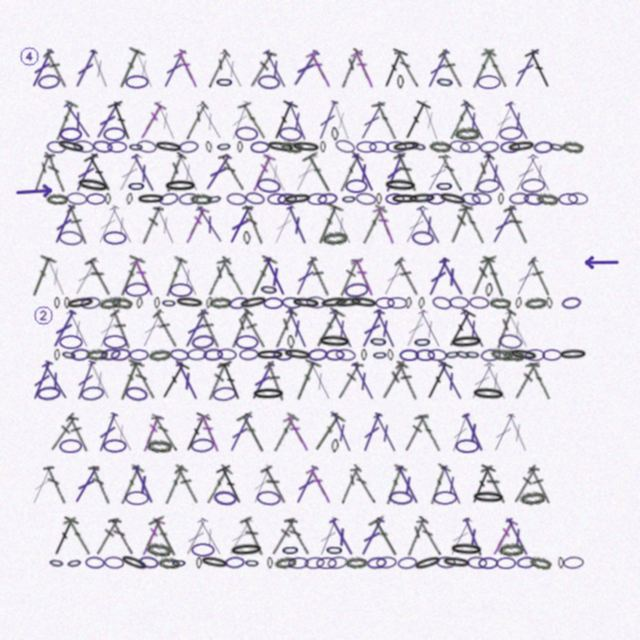chain: (118, 552, 150, 574), (75, 176, 111, 195), (412, 553, 444, 573), (55, 137, 87, 156), (449, 334, 484, 350), (471, 386, 506, 402), (229, 542, 264, 558), (437, 190, 468, 208), (238, 294, 269, 311), (199, 554, 230, 571), (383, 178, 418, 193), (317, 334, 352, 349), (471, 490, 506, 505), (449, 542, 484, 557), (153, 139, 184, 155), (265, 139, 296, 155), (65, 295, 96, 311), (508, 347, 539, 363), (163, 179, 198, 193), (251, 387, 286, 401), (391, 139, 422, 154), (506, 139, 537, 154), (174, 295, 205, 310), (319, 295, 350, 310), (333, 295, 364, 310), (348, 295, 379, 310), (282, 347, 313, 362), (441, 555, 472, 570), (145, 541, 172, 558), (124, 385, 149, 403), (282, 192, 313, 206), (321, 230, 348, 246), (519, 490, 546, 506), (256, 177, 281, 194), (498, 333, 523, 350), (80, 385, 105, 402), (291, 140, 321, 154), (291, 296, 321, 310), (37, 73, 61, 90), (278, 126, 303, 142), (476, 178, 501, 194), (58, 230, 83, 246), (344, 282, 369, 298), (212, 386, 237, 402), (256, 490, 281, 506), (388, 490, 413, 506), (454, 126, 480, 141), (407, 192, 437, 205), (558, 348, 588, 361), (498, 542, 524, 557), (257, 74, 281, 90), (411, 230, 435, 246), (98, 295, 122, 311), (191, 334, 215, 350), (213, 490, 237, 506), (36, 386, 61, 401), (190, 438, 215, 453), (334, 138, 356, 155), (529, 555, 552, 571), (146, 439, 172, 453), (499, 126, 523, 141), (521, 178, 545, 193), (136, 193, 166, 205), (390, 193, 420, 205), (125, 282, 149, 297), (255, 349, 285, 361), (158, 191, 180, 207), (460, 191, 482, 207), (228, 295, 250, 311), (431, 295, 453, 311), (235, 126, 258, 141), (110, 295, 133, 310), (490, 347, 513, 362), (274, 555, 297, 570), (125, 75, 149, 89), (477, 75, 501, 89), (103, 231, 127, 245), (169, 283, 193, 297), (59, 335, 83, 349), (103, 335, 127, 349), (235, 335, 259, 349), (103, 439, 127, 453), (455, 439, 479, 453), (125, 491, 149, 505), (433, 491, 457, 505), (191, 543, 215, 557), (73, 139, 95, 154), (449, 139, 471, 154), (244, 191, 266, 206), (59, 127, 82, 141), (103, 127, 126, 141), (280, 140, 303, 154), (561, 140, 584, 154), (345, 179, 368, 193), (536, 192, 559, 206), (524, 296, 547, 310), (148, 348, 171, 362), (502, 348, 525, 362), (59, 439, 82, 453), (435, 74, 455, 90), (92, 139, 113, 154), (136, 139, 157, 154), (100, 347, 121, 362), (110, 347, 131, 362), (138, 555, 159, 570), (327, 555, 348, 570), (355, 192, 377, 206), (259, 282, 279, 297), (46, 140, 67, 154), (178, 140, 199, 154), (479, 140, 500, 154), (533, 140, 554, 154), (178, 192, 199, 206), (226, 192, 247, 206), (317, 192, 338, 206), (523, 192, 544, 206), (80, 296, 101, 310), (281, 296, 302, 310), (561, 296, 582, 310), (169, 348, 190, 362), (335, 348, 356, 362), (427, 348, 448, 362), (480, 348, 501, 362), (304, 556, 325, 570), (366, 556, 387, 570), (397, 556, 418, 570), (429, 140, 451, 153), (66, 192, 88, 205), (209, 296, 231, 309), (86, 348, 108, 361), (345, 556, 367, 569), (369, 334, 388, 349), (471, 192, 492, 205), (70, 348, 91, 361), (307, 348, 328, 361), (376, 556, 397, 569), (516, 556, 537, 569), (563, 556, 584, 569), (410, 139, 428, 154), (454, 347, 472, 362), (215, 75, 234, 89), (127, 179, 146, 193), (435, 179, 454, 193), (413, 335, 432, 349), (281, 543, 300, 557), (325, 543, 344, 557), (46, 193, 68, 205), (190, 193, 212, 205), (489, 297, 511, 309), (158, 557, 180, 569), (509, 192, 529, 205), (568, 192, 588, 205), (306, 296, 326, 309), (449, 296, 469, 309), (469, 296, 489, 309), (187, 348, 207, 361), (203, 348, 223, 361), (217, 348, 237, 361), (239, 348, 259, 361), (273, 348, 293, 361), (85, 556, 105, 569), (104, 556, 124, 569), (225, 556, 245, 569), (436, 556, 456, 569), (467, 556, 487, 569), (356, 141, 377, 153), (386, 141, 407, 153), (387, 297, 408, 309), (60, 348, 78, 362), (288, 557, 309, 569), (316, 557, 337, 569), (107, 141, 127, 153), (250, 141, 270, 153), (369, 141, 389, 153), (460, 141, 480, 153), (500, 141, 520, 153), (86, 193, 106, 205), (267, 193, 287, 205), (277, 193, 297, 205), (307, 193, 327, 205), (385, 193, 405, 205), (426, 193, 446, 205), (558, 193, 578, 205), (263, 297, 283, 309), (375, 297, 395, 309), (129, 349, 149, 361), (325, 349, 345, 361), (399, 349, 419, 361), (415, 349, 435, 361), (525, 349, 545, 361), (542, 349, 562, 361), (478, 557, 498, 569), (496, 557, 516, 569), (548, 140, 565, 154), (206, 192, 223, 206), (48, 556, 65, 570), (66, 556, 83, 570), (444, 348, 461, 361), (464, 348, 481, 361), (216, 140, 232, 153), (128, 141, 144, 153), (341, 193, 357, 205), (161, 297, 177, 309), (372, 349, 388, 361), (171, 557, 187, 569), (244, 557, 260, 569), (331, 127, 339, 141), (243, 231, 251, 245), (485, 283, 493, 297), (287, 335, 295, 349), (331, 439, 339, 453), (397, 75, 404, 89), (205, 141, 213, 153), (205, 297, 213, 309), (126, 193, 133, 205), (136, 297, 143, 309), (405, 297, 412, 309), (418, 297, 425, 309), (515, 297, 522, 309), (546, 297, 553, 309), (387, 349, 394, 361), (237, 141, 243, 153), (320, 141, 326, 153), (105, 193, 111, 205), (376, 193, 382, 205), (498, 193, 504, 205), (54, 297, 60, 309), (64, 297, 70, 309), (154, 297, 160, 309), (54, 349, 60, 361), (361, 349, 367, 361), (196, 557, 202, 569), (267, 557, 273, 569), (558, 557, 564, 569)
double: (309, 411, 346, 455), (310, 307, 346, 351), (368, 515, 404, 559), (302, 151, 337, 195), (156, 359, 191, 403), (236, 411, 271, 455), (148, 515, 183, 559), (83, 151, 117, 195), (443, 307, 477, 351), (113, 47, 146, 91), (399, 99, 432, 143), (245, 255, 278, 299), (421, 359, 454, 403), (215, 463, 248, 507), (237, 99, 270, 142), (267, 411, 300, 454), (524, 47, 556, 91), (312, 203, 344, 247), (114, 255, 146, 299), (290, 359, 322, 403), (180, 411, 212, 455), (48, 515, 80, 559), (61, 100, 95, 141), (193, 204, 227, 245), (39, 360, 72, 402), (201, 464, 234, 506), (444, 99, 476, 142), (356, 203, 388, 246), (216, 255, 248, 298), (62, 515, 94, 558), (378, 47, 409, 91), (268, 99, 299, 143), (26, 255, 57, 299), (480, 255, 511, 299), (114, 359, 145, 403), (216, 359, 247, 403), (466, 463, 497, 507), (289, 48, 322, 89), (201, 152, 234, 193), (194, 100, 226, 142), (422, 152, 454, 194), (70, 256, 102, 298), (84, 256, 116, 298), (436, 256, 468, 298), (70, 464, 102, 506), (194, 516, 226, 558), (224, 516, 256, 558), (326, 516, 358, 558), (466, 47, 497, 90), (480, 47, 511, 90), (334, 151, 365, 194), (458, 203, 489, 246), (414, 411, 445, 454), (114, 463, 145, 506), (158, 463, 189, 506), (107, 99, 137, 143), (260, 48, 291, 90), (510, 48, 541, 90), (136, 100, 167, 142), (356, 100, 387, 142), (458, 100, 489, 142), (114, 152, 145, 194), (260, 152, 291, 194), (510, 152, 541, 194), (106, 204, 137, 246), (414, 204, 445, 246), (488, 204, 519, 246), (48, 308, 79, 350), (180, 308, 211, 350), (458, 308, 489, 350), (502, 308, 533, 350), (348, 360, 379, 402), (378, 360, 409, 402), (436, 360, 467, 402), (466, 360, 497, 402), (106, 412, 137, 454), (282, 412, 313, 454), (260, 464, 291, 506), (480, 464, 511, 506), (356, 516, 387, 558), (488, 516, 519, 558), (27, 47, 57, 90), (49, 99, 79, 142), (371, 99, 401, 142), (173, 151, 203, 194), (349, 151, 379, 194), (137, 307, 167, 350), (401, 307, 431, 350), (85, 359, 115, 402), (525, 359, 555, 402), (239, 515, 269, 558), (92, 100, 123, 141), (159, 48, 189, 90), (217, 48, 247, 90), (305, 48, 335, 90), (503, 100, 533, 142), (71, 152, 101, 194), (129, 152, 159, 194), (291, 152, 321, 194), (525, 152, 555, 194), (225, 204, 255, 246), (401, 204, 431, 246), (503, 204, 533, 246), (379, 256, 409, 298), (511, 256, 541, 298), (63, 308, 93, 350), (327, 308, 357, 350), (357, 308, 387, 350), (415, 308, 445, 350), (247, 360, 277, 402), (305, 360, 335, 402), (481, 360, 511, 402), (225, 412, 255, 454), (371, 412, 401, 454), (291, 464, 321, 506), (305, 464, 335, 506), (393, 464, 423, 506), (181, 516, 211, 558), (445, 516, 475, 558), (503, 516, 533, 558), (151, 99, 180, 142), (393, 151, 422, 194), (93, 203, 122, 246), (159, 255, 188, 298), (261, 255, 290, 298), (291, 255, 320, 298), (467, 255, 496, 298), (283, 307, 312, 350), (371, 307, 400, 350), (459, 411, 488, 454), (129, 463, 158, 506), (379, 463, 408, 506), (48, 413, 79, 453), (151, 308, 181, 349), (71, 48, 100, 90), (173, 48, 202, 90), (423, 48, 452, 90), (481, 152, 510, 194), (181, 204, 210, 246), (327, 204, 356, 246), (129, 256, 158, 298), (173, 360, 202, 402), (489, 412, 518, 454), (137, 516, 166, 558), (130, 47, 158, 90), (50, 203, 78, 246), (446, 203, 474, 246), (42, 255, 70, 298), (94, 307, 122, 350), (28, 359, 56, 402), (328, 411, 356, 454), (504, 411, 532, 454), (424, 463, 452, 506), (314, 515, 342, 558), (247, 49, 277, 89), (239, 309, 269, 349), (437, 48, 466, 89), (203, 256, 232, 297), (393, 256, 422, 297), (335, 360, 364, 401), (173, 464, 202, 505), (511, 464, 540, 505), (93, 516, 122, 557), (269, 516, 298, 557), (350, 48, 378, 90), (490, 100, 518, 142), (248, 152, 276, 194), (270, 204, 298, 246), (174, 256, 202, 298), (350, 256, 378, 298), (424, 256, 452, 298), (196, 412, 224, 454), (28, 464, 56, 506), (438, 464, 466, 506), (86, 47, 113, 90), (226, 99, 253, 142), (314, 99, 341, 142), (328, 99, 355, 142), (72, 359, 99, 402), (94, 411, 121, 454), (358, 411, 385, 454), (248, 463, 275, 506), (151, 413, 180, 453), (42, 48, 70, 89), (218, 152, 246, 193), (526, 256, 554, 297), (226, 308, 254, 349), (270, 308, 298, 349), (512, 360, 540, 401), (64, 412, 92, 453), (526, 464, 554, 505), (284, 100, 311, 142), (152, 204, 179, 246), (284, 204, 311, 246), (372, 204, 399, 246), (138, 412, 165, 454), (460, 516, 487, 558), (204, 49, 232, 89), (182, 101, 210, 141), (350, 465, 378, 505), (416, 517, 444, 557), (417, 99, 443, 142), (336, 48, 363, 89), (394, 48, 421, 89), (438, 152, 465, 193), (468, 152, 495, 193), (306, 256, 333, 297), (196, 308, 223, 349), (130, 360, 157, 401), (394, 360, 421, 401), (402, 412, 429, 453), (108, 516, 135, 557), (284, 516, 311, 557), (402, 516, 429, 557), (381, 152, 407, 194), (491, 308, 517, 350), (447, 412, 473, 454), (161, 152, 187, 193), (65, 204, 91, 245), (337, 464, 363, 505), (139, 204, 164, 246), (337, 256, 362, 298), (109, 308, 134, 350), (205, 360, 230, 402), (263, 360, 288, 402), (43, 464, 68, 506), (88, 464, 112, 506), (30, 152, 54, 193), (44, 152, 67, 194), (242, 204, 265, 246)
noise: (15, 183, 54, 200), (32, 304, 55, 327), (582, 255, 619, 269), (18, 45, 40, 67)
